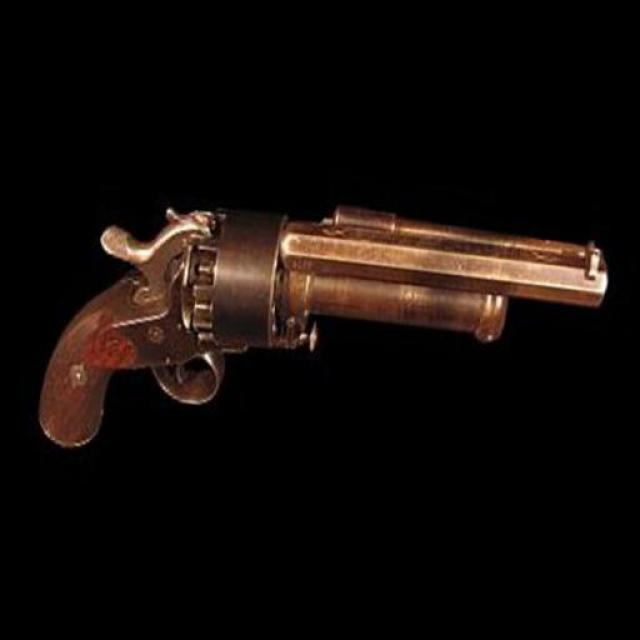gun: (32, 149, 618, 515)
